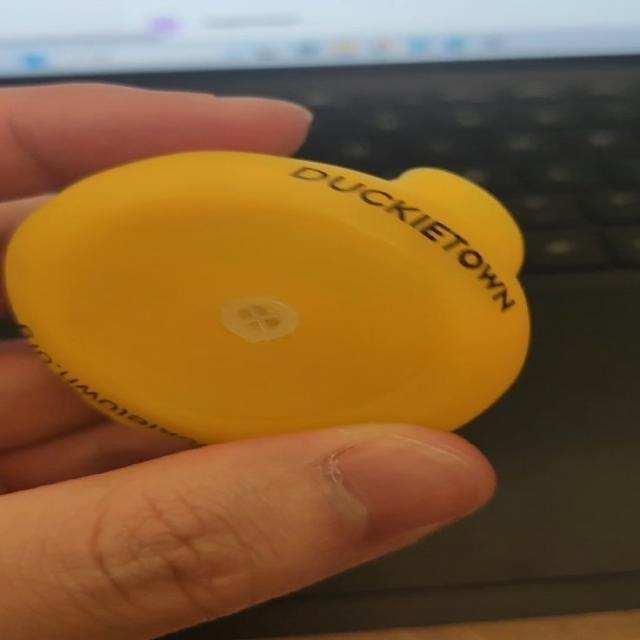rubber-duck: (5, 151, 528, 441)
